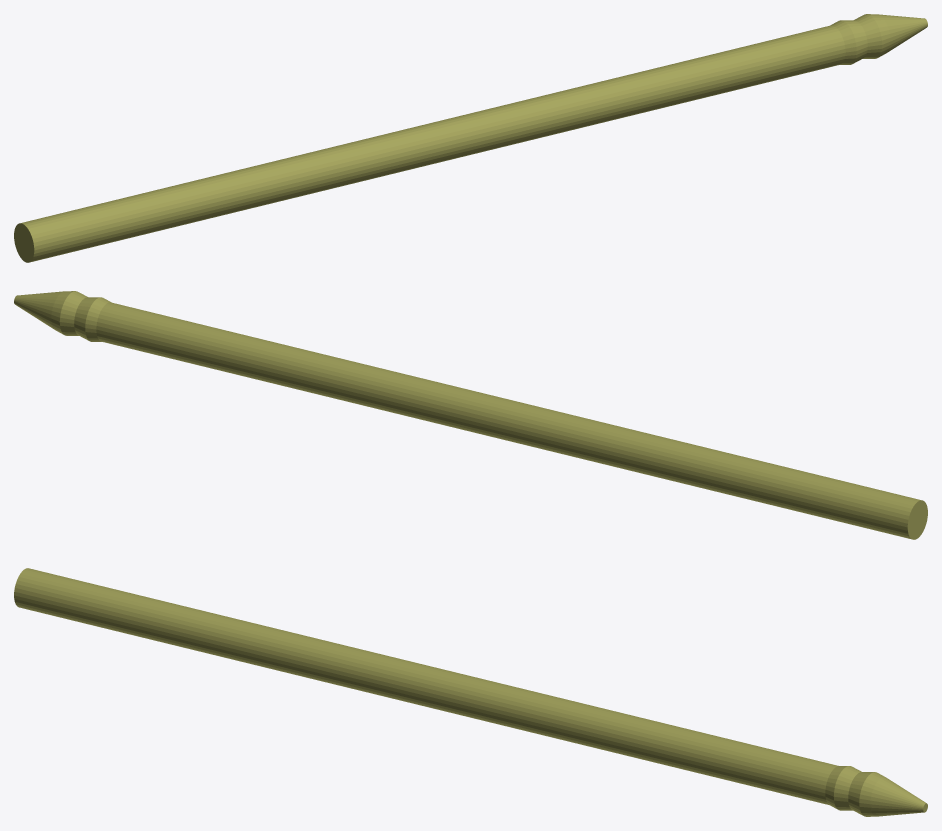
Rendered from Spear3.fbx.
The picture shows the model from 3 angles, top to bottom: view 1: azimuth 30°, elevation 25°; view 2: azimuth 150°, elevation 25°; view 3: azimuth 330°, elevation 25°; orthographic projection.
Parts seen in each view (by area): view 1: Cylinder; view 2: Cylinder; view 3: Cylinder.
Boxes of the visible parts, x1,y1,x2,y2 form: Cylinder: [14, 14, 927, 262]; Cylinder: [14, 291, 927, 539]; Cylinder: [14, 568, 927, 816].
Bounding box in the file's own units: 2000 × 88.15 × 88.15.
